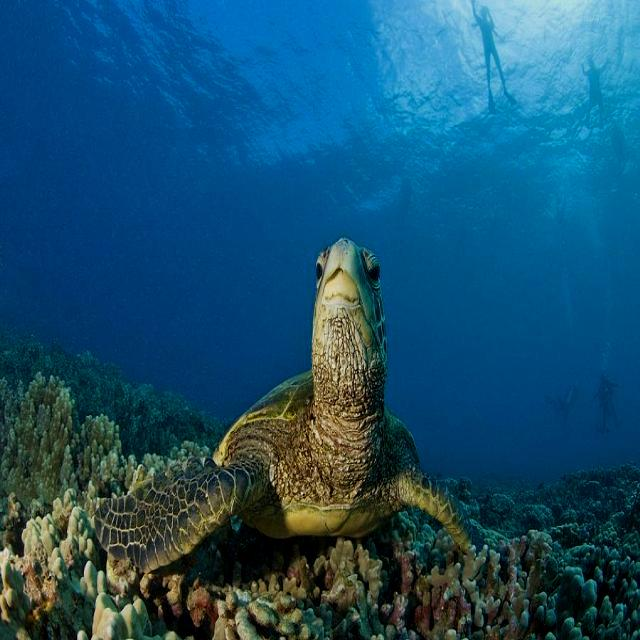tortoise: (80, 233, 496, 572)
